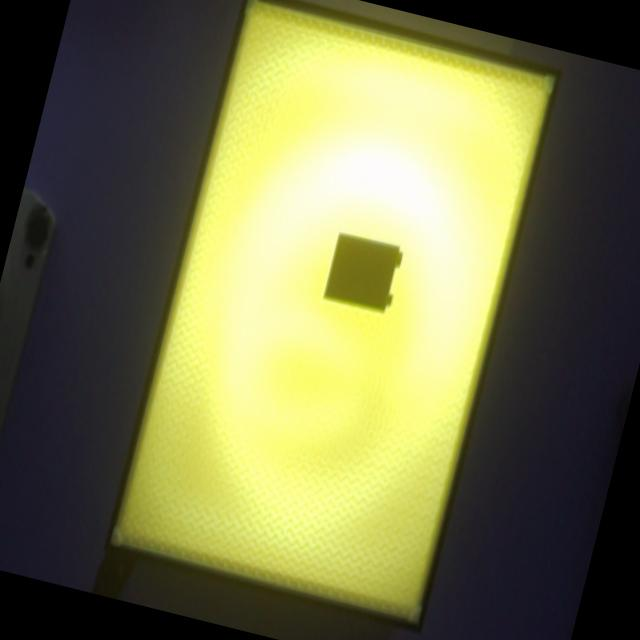bateria: (323, 229, 403, 314)
mesa: (102, 0, 561, 634)
